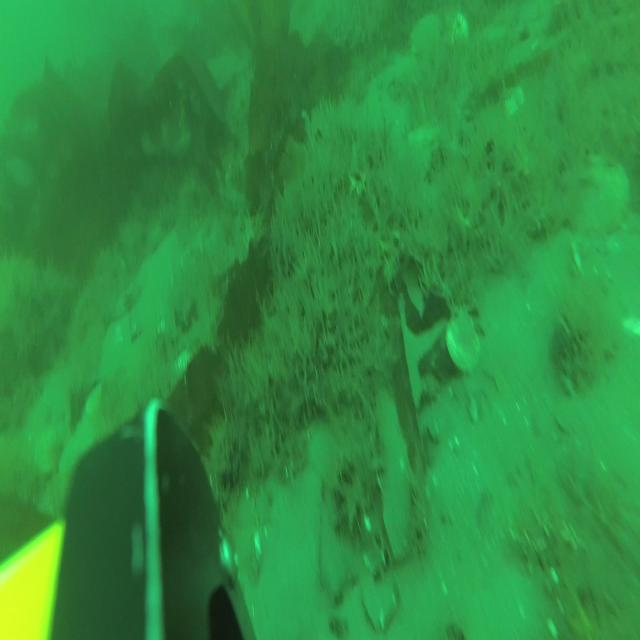scallop: (566, 155, 628, 230), (445, 311, 482, 371), (411, 10, 445, 61), (499, 85, 524, 122), (452, 16, 471, 52)
